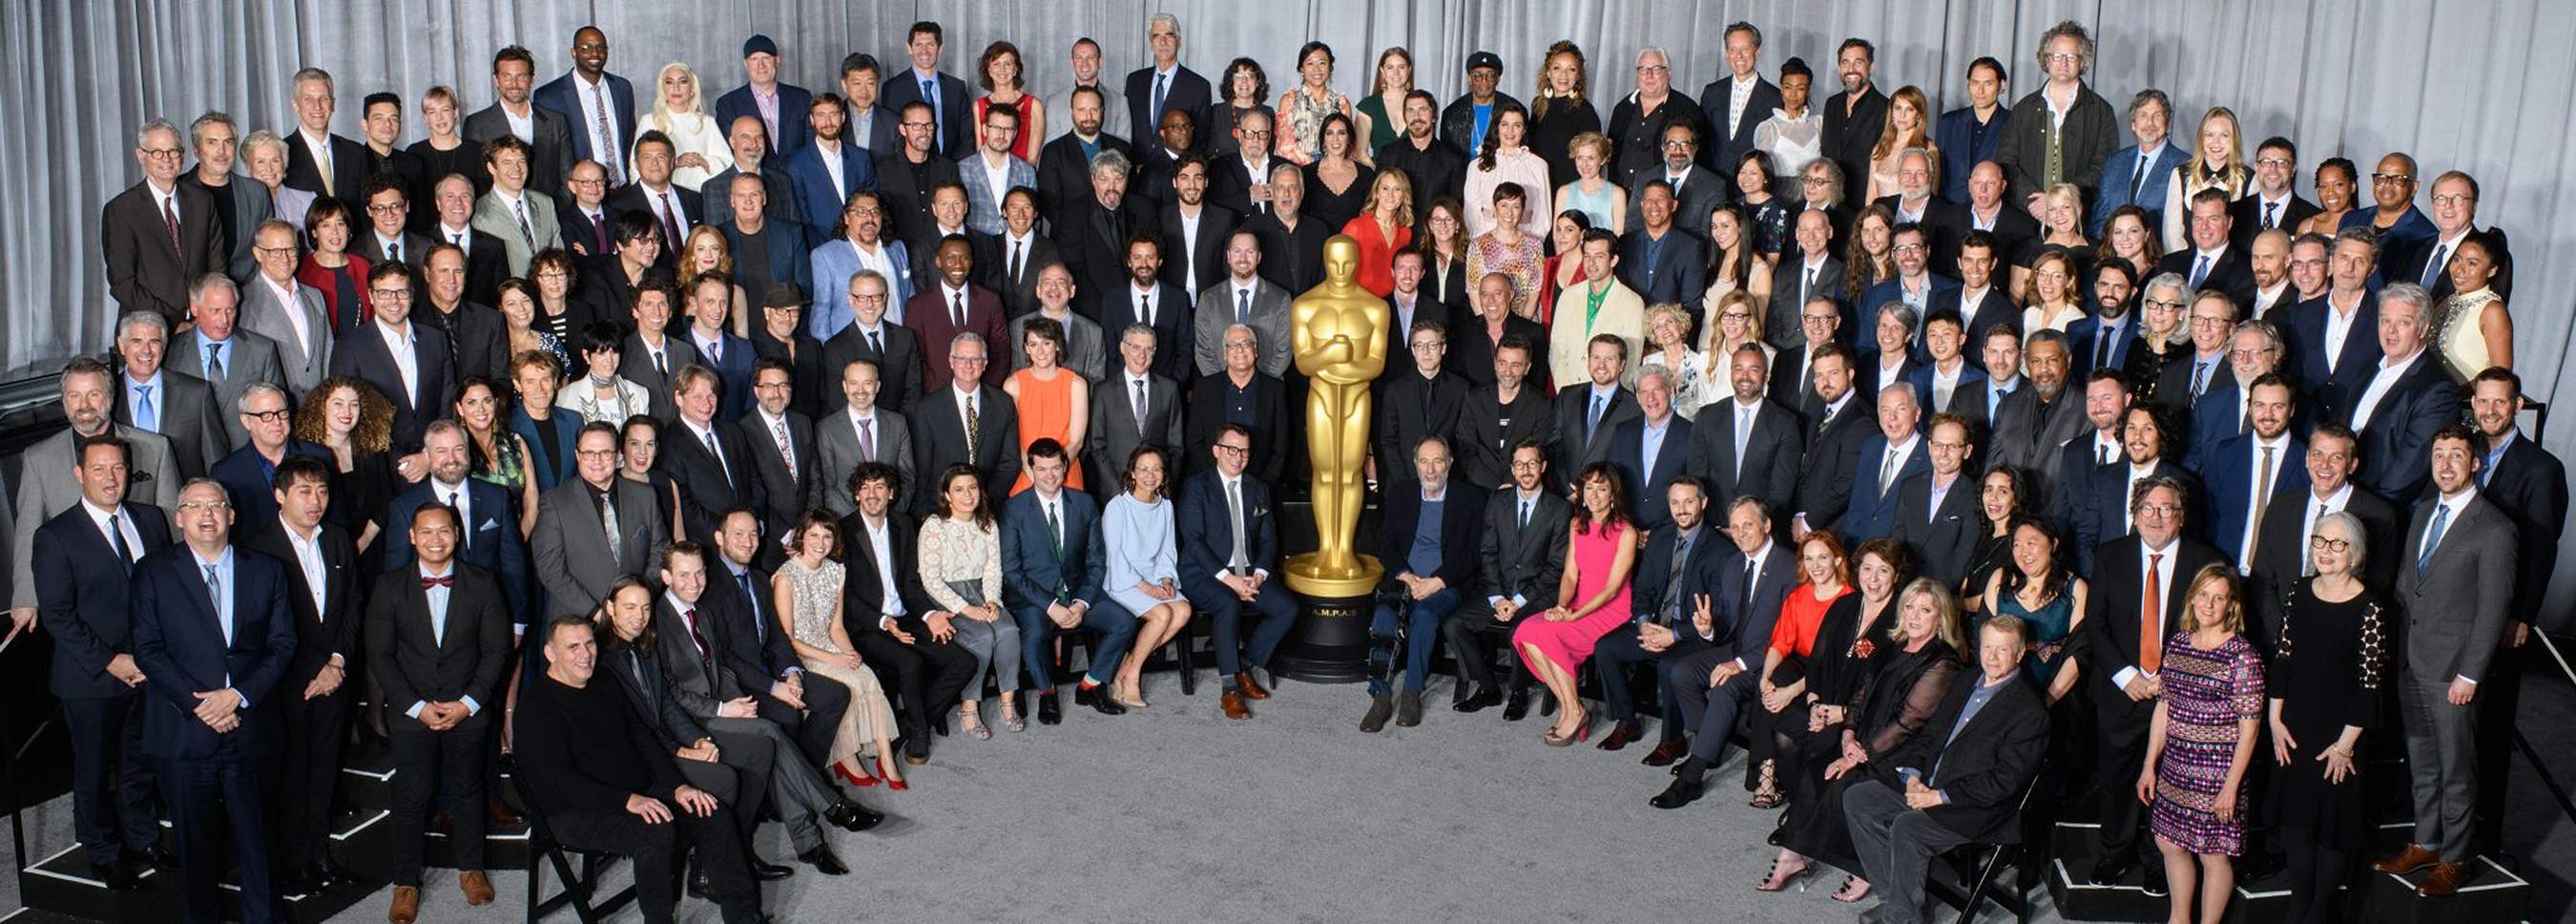bad: (2420, 437, 2471, 487), (2305, 524, 2354, 575), (85, 449, 135, 498), (179, 493, 228, 543), (557, 630, 606, 679), (287, 477, 338, 524), (57, 383, 107, 431), (2471, 391, 2512, 434), (2305, 447, 2348, 488), (2246, 391, 2287, 434), (427, 253, 468, 296), (1897, 597, 1939, 640), (2328, 250, 2371, 291), (1870, 396, 1912, 437), (616, 594, 657, 635), (199, 127, 240, 168), (414, 520, 455, 561), (2430, 186, 2471, 227), (2004, 529, 2045, 571), (670, 561, 711, 602), (575, 442, 616, 483), (199, 296, 240, 337), (1981, 342, 2022, 383), (2187, 309, 2228, 350), (253, 401, 294, 442), (437, 181, 478, 222), (2081, 383, 2123, 424), (2187, 584, 2228, 625), (2026, 350, 2067, 391), (2118, 419, 2159, 460), (693, 286, 734, 327), (2374, 309, 2415, 350), (263, 235, 304, 276), (2287, 250, 2328, 291), (2136, 497, 2177, 538), (145, 140, 186, 181), (849, 199, 890, 240), (368, 194, 409, 235), (2366, 163, 2407, 204), (2443, 245, 2484, 286), (1664, 490, 1699, 524), (2244, 247, 2279, 281), (726, 521, 761, 556), (2313, 174, 2348, 209), (1413, 452, 1447, 487), (729, 186, 764, 220), (948, 478, 982, 513), (1810, 360, 1845, 395), (1704, 212, 1738, 247), (1799, 547, 1833, 582), (325, 395, 360, 429), (1585, 349, 1620, 383), (1508, 452, 1543, 487), (1226, 242, 1260, 276), (683, 383, 718, 418), (458, 391, 493, 426), (1920, 322, 1955, 357), (375, 284, 409, 319), (2108, 224, 2142, 258), (1173, 166, 1207, 201), (1978, 640, 2012, 674), (1978, 478, 2012, 513), (940, 247, 974, 281), (1929, 437, 1963, 472), (1474, 281, 1508, 316), (2200, 123, 2234, 158), (844, 372, 879, 406), (634, 146, 669, 181), (1833, 51, 1868, 85), (1092, 169, 1127, 204), (810, 105, 844, 140), (1730, 360, 1764, 395), (844, 71, 879, 105), (577, 36, 611, 71), (1635, 59, 1669, 94), (314, 215, 348, 250), (1661, 135, 1695, 169), (931, 192, 966, 227), (1398, 97, 1433, 132), (1035, 273, 1069, 307), (1897, 163, 1932, 197), (1574, 242, 1608, 276), (1127, 247, 1161, 281), (986, 117, 1020, 151), (1219, 437, 1253, 472), (657, 71, 692, 105), (2031, 265, 2065, 299), (432, 441, 467, 475), (2256, 155, 2290, 189), (688, 238, 723, 273), (1889, 238, 1924, 273), (1722, 39, 1756, 74), (1966, 174, 2001, 209), (501, 293, 536, 327), (1958, 250, 1993, 284), (1493, 353, 1528, 388), (631, 227, 665, 261), (127, 334, 161, 368), (853, 284, 887, 319), (802, 524, 836, 559), (1546, 59, 1580, 94), (1268, 178, 1303, 212), (1032, 460, 1066, 495), (905, 36, 940, 71), (1390, 258, 1424, 293), (1635, 189, 1669, 224), (573, 169, 608, 204), (2134, 105, 2169, 140), (1794, 166, 1828, 201), (1237, 123, 1272, 158), (856, 478, 890, 513), (2047, 48, 2081, 82), (1298, 51, 1332, 85), (536, 265, 570, 299), (1799, 307, 1833, 342), (1871, 319, 1906, 353), (1145, 25, 1180, 59), (1635, 383, 1669, 418), (1546, 215, 1580, 250), (1493, 117, 1528, 151), (2142, 296, 2177, 330), (1776, 79, 1810, 113), (1318, 123, 1352, 158), (2229, 345, 2264, 380), (1066, 48, 1101, 82), (1222, 334, 1257, 368), (1023, 334, 1058, 368), (951, 349, 986, 383), (623, 434, 657, 467), (368, 105, 401, 140), (498, 151, 531, 186), (2188, 209, 2223, 242), (521, 372, 554, 406), (250, 151, 283, 186), (2093, 276, 2126, 311), (299, 90, 333, 123), (1069, 102, 1104, 135), (905, 113, 940, 146), (1856, 559, 1889, 594), (757, 377, 790, 411), (734, 123, 767, 158), (1963, 71, 1996, 105), (1410, 339, 1444, 372), (639, 296, 672, 330), (498, 62, 531, 97), (1130, 457, 1165, 490), (1727, 513, 1759, 547), (1124, 334, 1157, 368), (2042, 197, 2077, 230), (1794, 220, 1828, 253), (1165, 113, 1199, 146), (1715, 307, 1748, 342), (421, 102, 455, 135), (1856, 220, 1889, 253)
